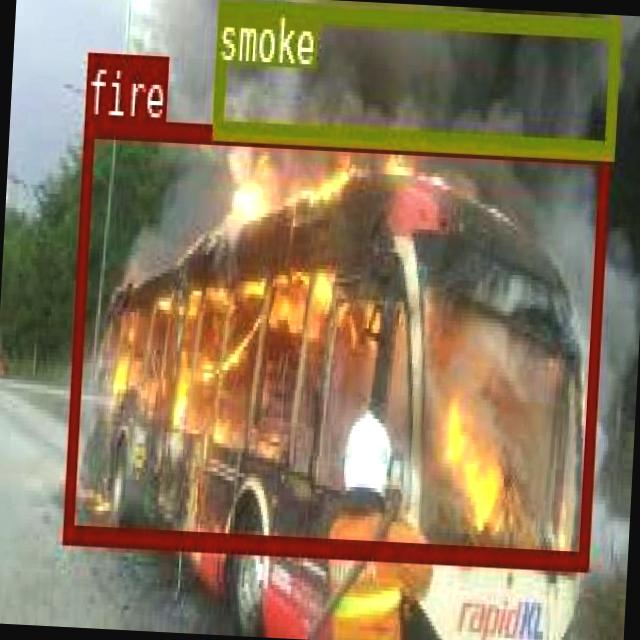fire: (61, 116, 608, 568)
smoke: (210, 0, 619, 157)
